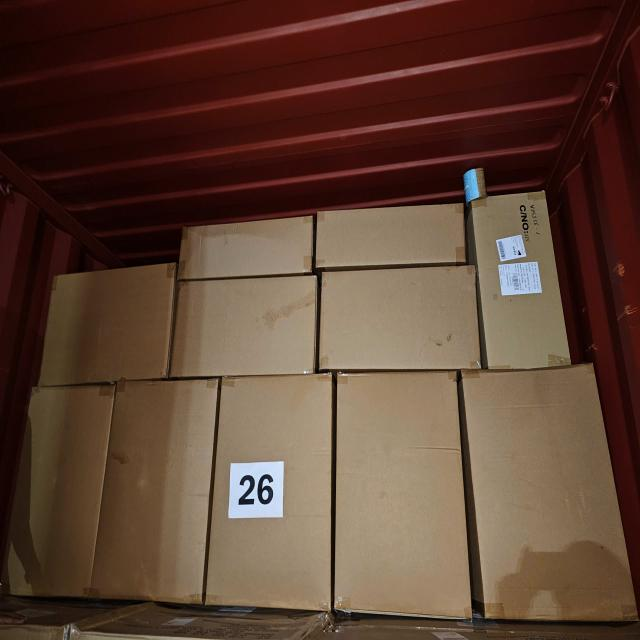Carton: (469, 358, 621, 628), (341, 364, 469, 618), (211, 380, 335, 618), (102, 382, 212, 612), (7, 388, 102, 608), (475, 186, 575, 372), (322, 264, 482, 370), (40, 268, 172, 389), (176, 273, 322, 375), (320, 206, 472, 274), (177, 218, 313, 280)
